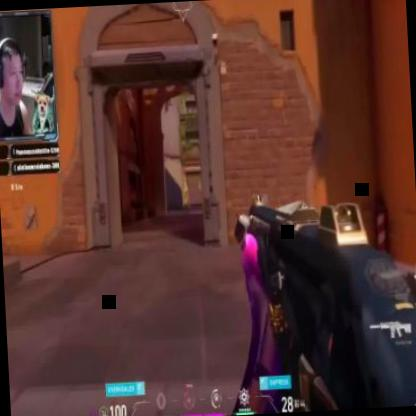enemy: (182, 183, 191, 208)
enemy_head: (184, 183, 188, 189)
